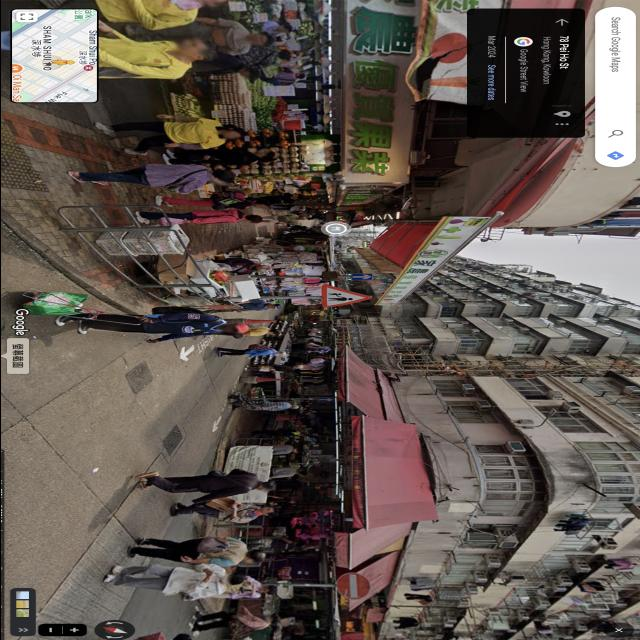Direction-Sign: (351, 274, 372, 280)
Order-Sign: (336, 574, 370, 600)
Warning-Sign: (322, 284, 371, 308)
